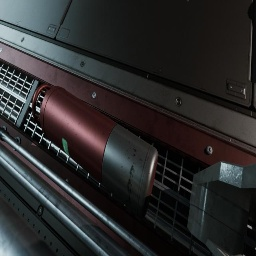NitrogenTank ,: (32, 83, 158, 219)
